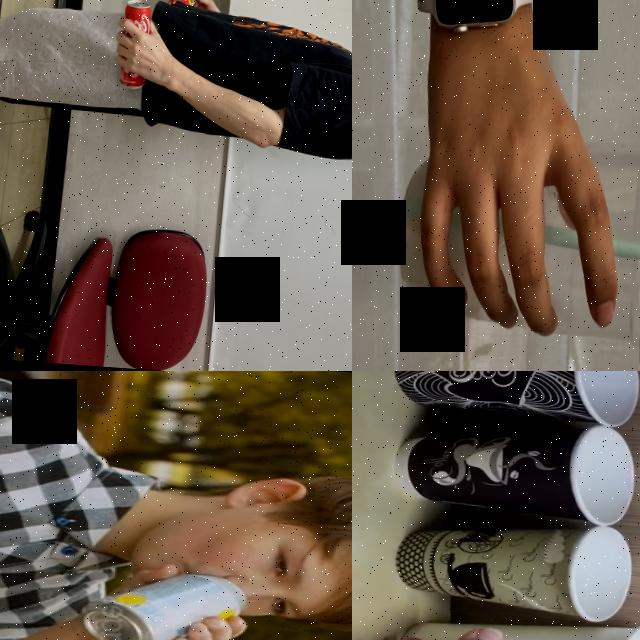can: (73, 565, 246, 640), (115, 0, 153, 90)
cup: (389, 101, 640, 370), (394, 407, 640, 525), (392, 504, 636, 620), (392, 371, 640, 425), (389, 607, 640, 640)
